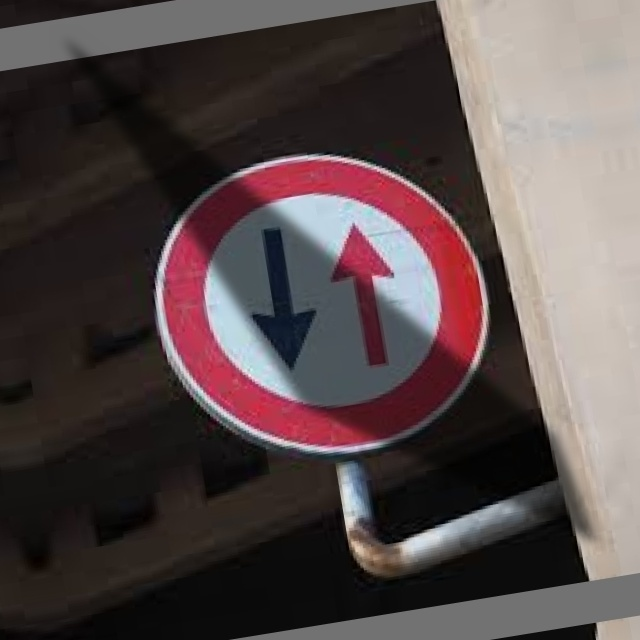Mandatory_Two_Way_Traffic: (137, 128, 524, 470)
